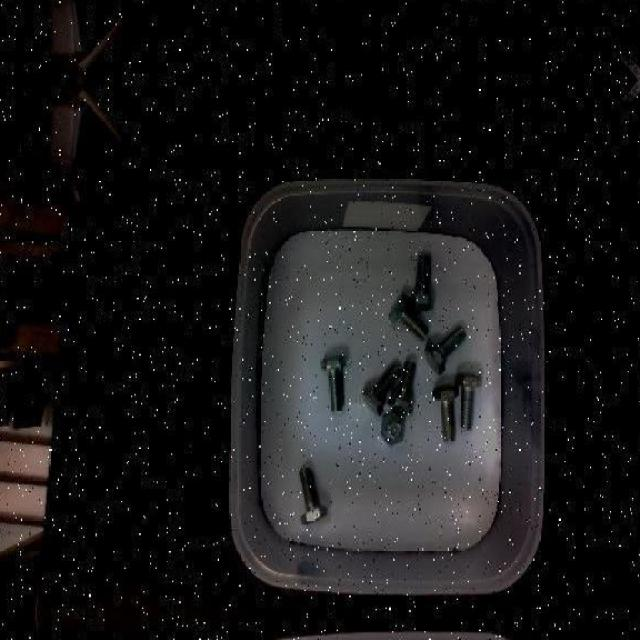screw: (361, 363, 400, 417), (424, 324, 466, 374), (389, 292, 430, 340), (386, 359, 416, 415), (454, 371, 482, 429), (298, 466, 326, 524), (431, 383, 458, 441), (320, 354, 347, 410), (407, 253, 433, 311), (379, 411, 405, 445)
